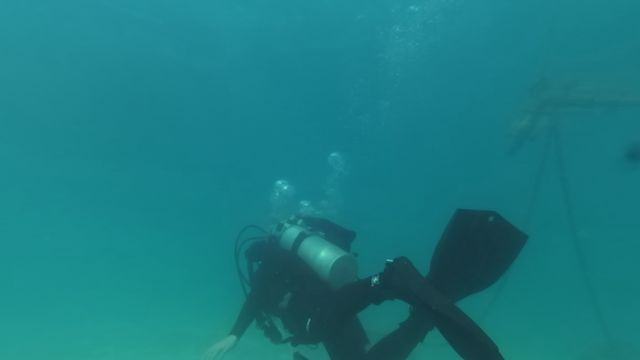Diver: (204, 191, 541, 358)
